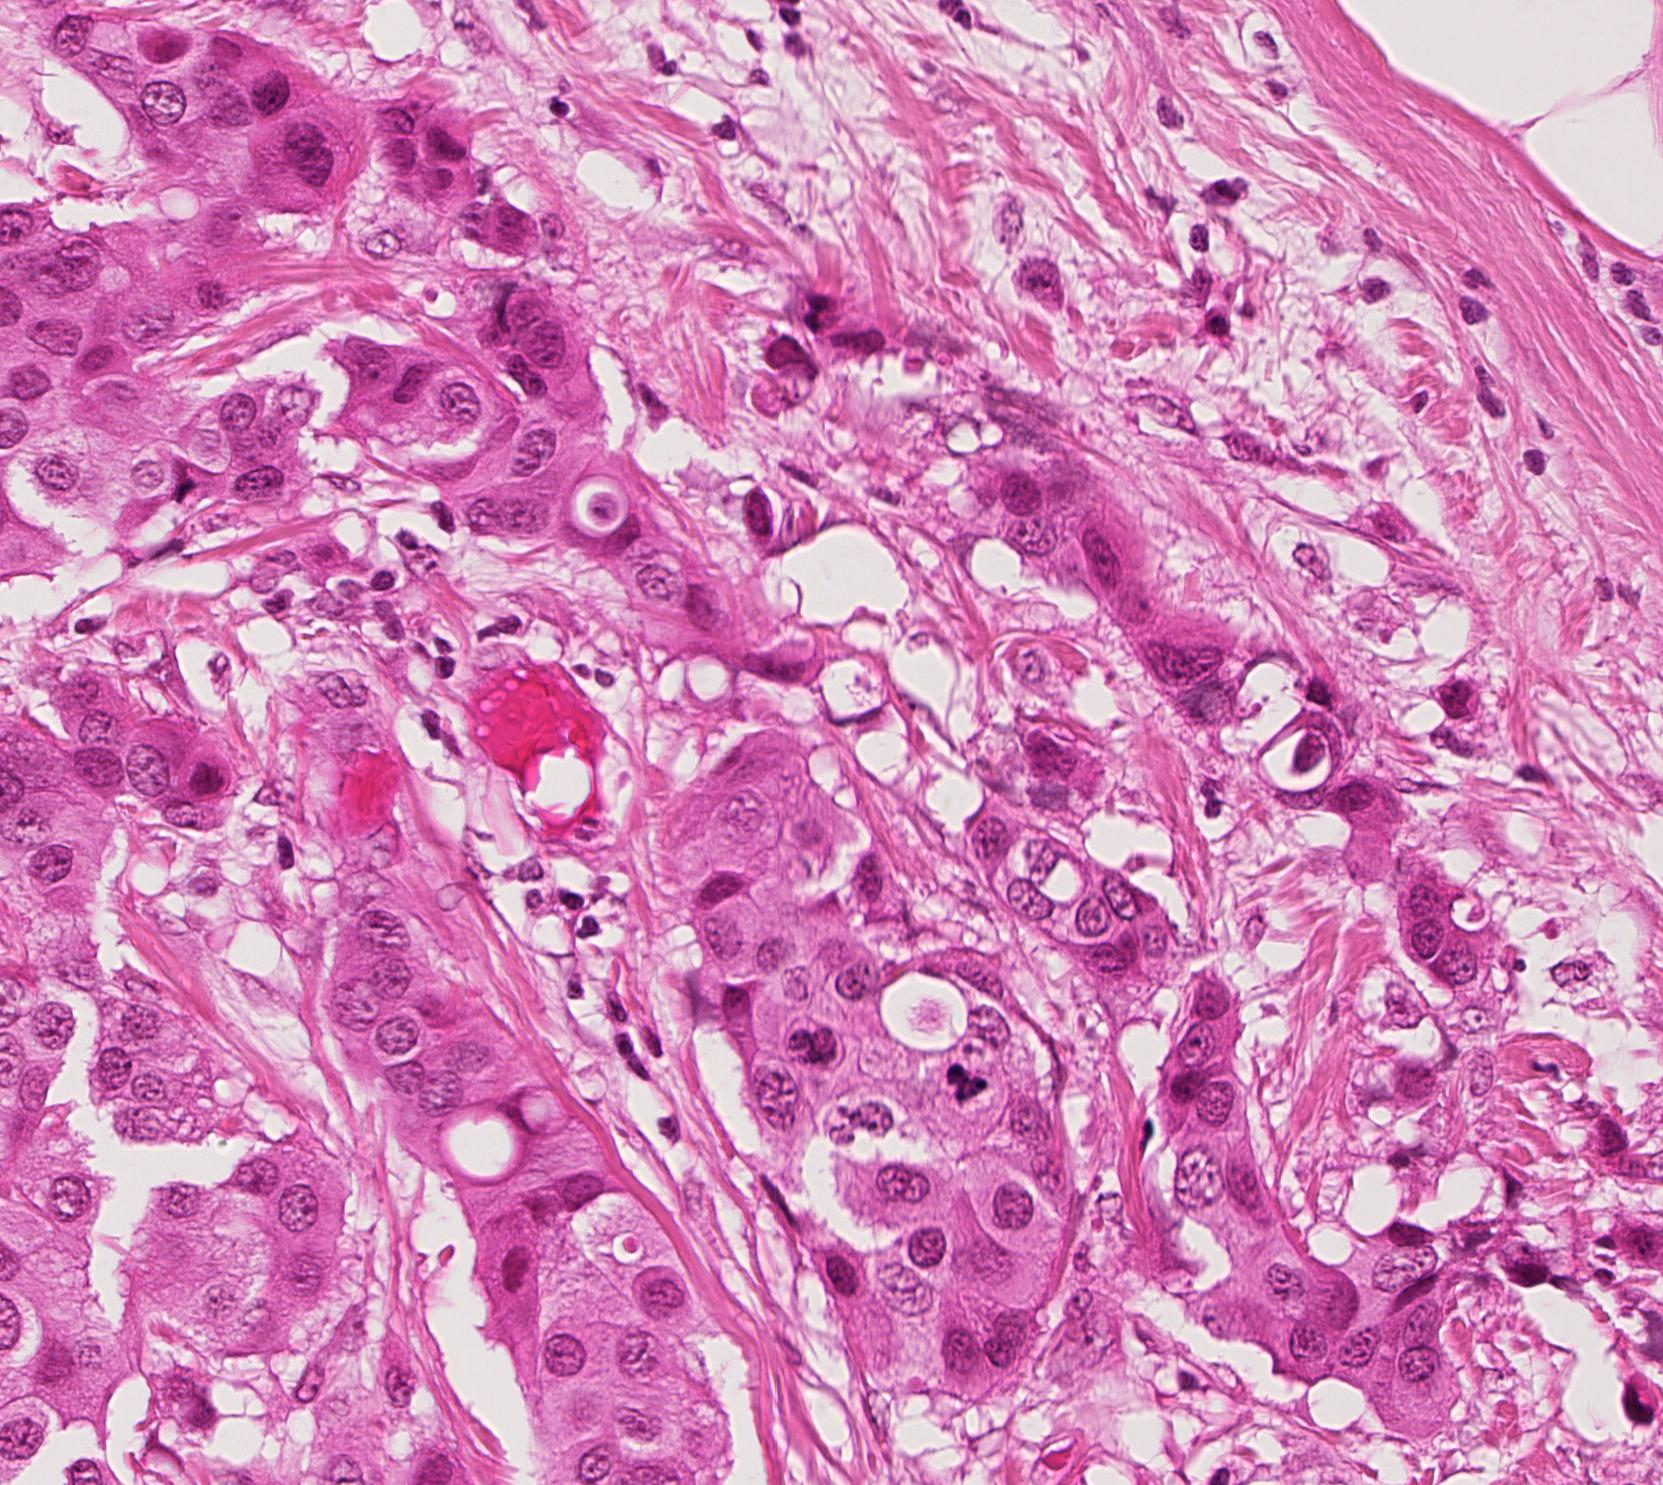mitosis: (939, 1044, 999, 1104)
